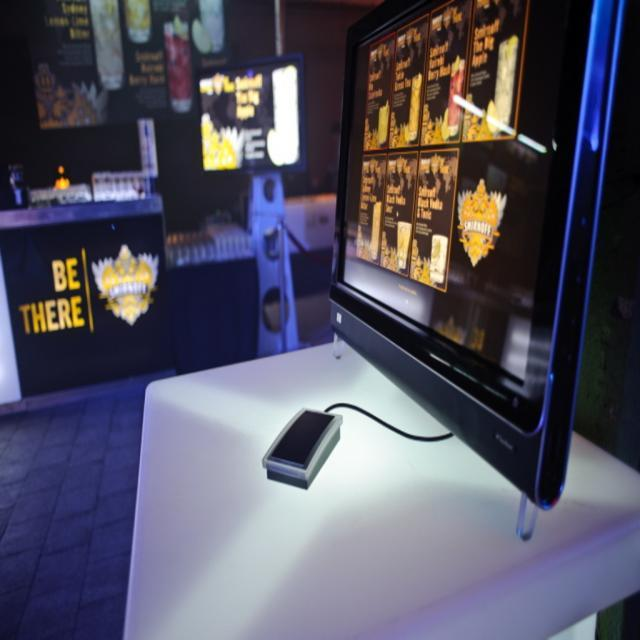others: (251, 2, 640, 536)
